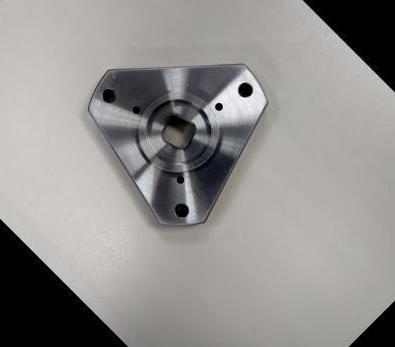hole: (95, 81, 123, 109), (232, 75, 259, 103), (168, 196, 194, 223), (127, 101, 145, 120), (211, 98, 226, 114), (172, 171, 187, 186)
